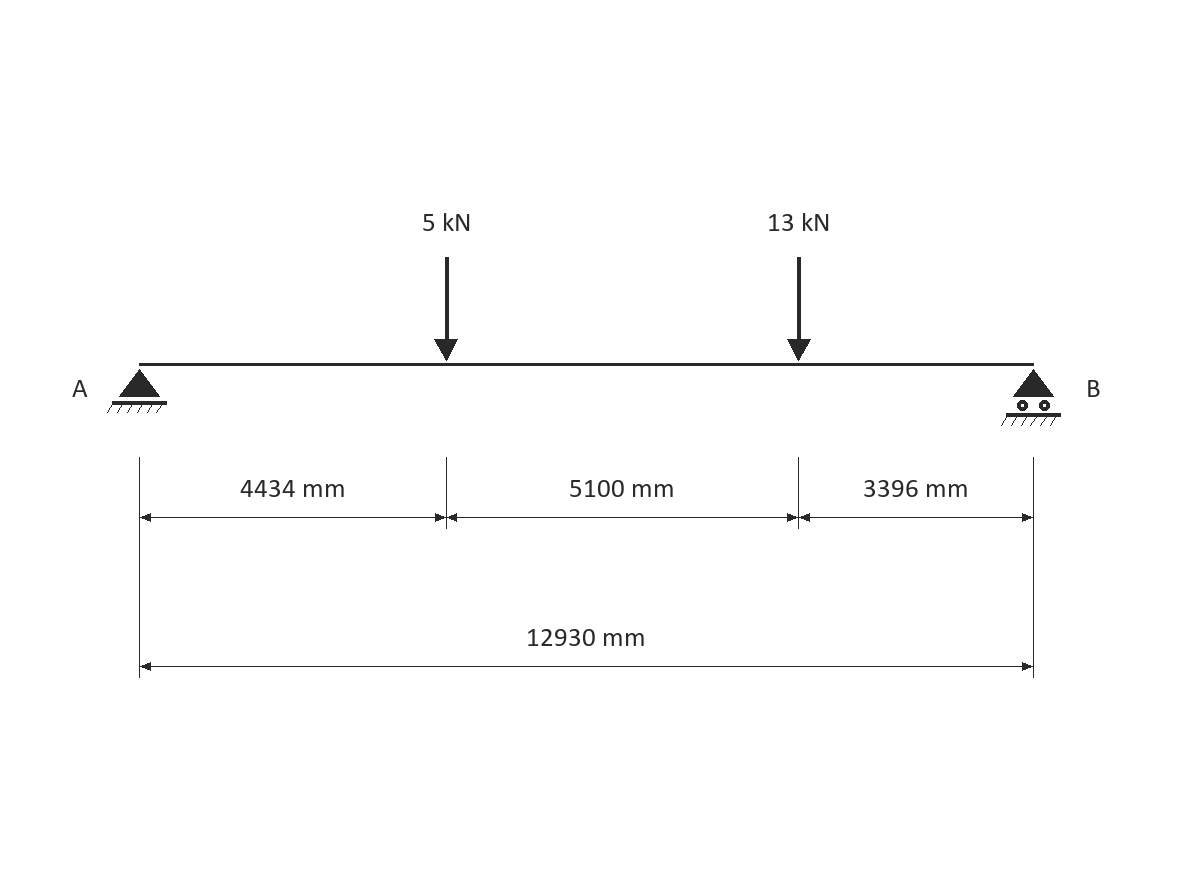pin_support: (107, 369, 167, 413)
point_load: (434, 257, 458, 361), (787, 257, 811, 361)
roller_support: (1001, 369, 1061, 426)
